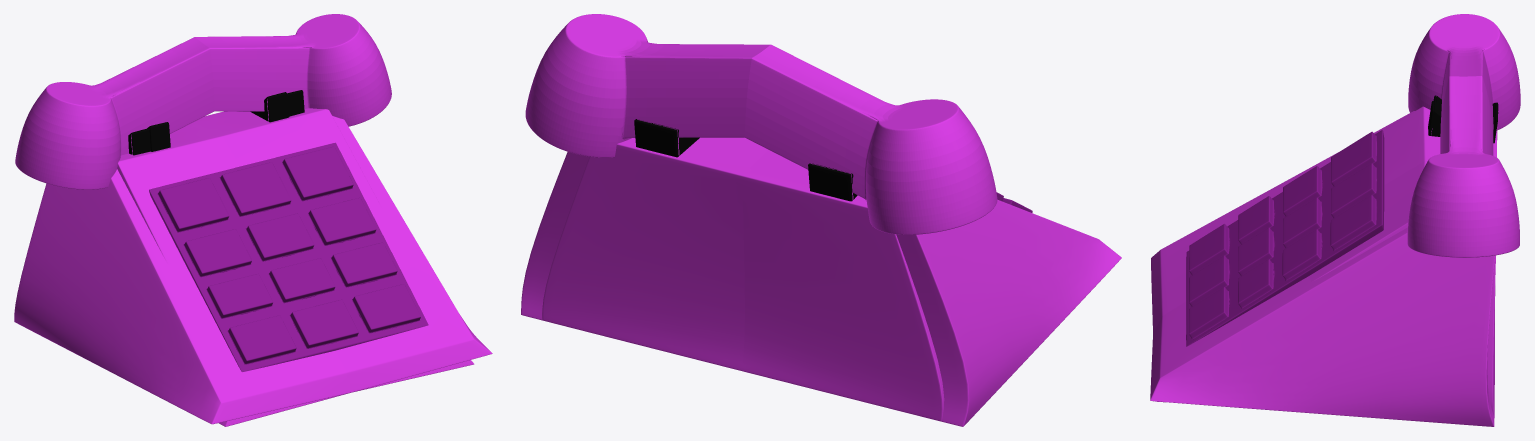
The model's file is phone.glb.
3 renders of one model, left to right at view 1: azimuth 30°, elevation 25°; view 2: azimuth 150°, elevation 25°; view 3: azimuth 270°, elevation 25°, orthographic. The views are drawn at different scales.
Parts seen in each view (by area): view 1: Circle; view 2: Circle; view 3: Circle.
Boxes of the visible parts, x1,y1,x2,y2 form: Circle: (14,14,492,426); Circle: (521,14,1121,426); Circle: (1150,14,1520,426).
Size of the model in its own units: 1.83 by 1.2 by 1.53.
